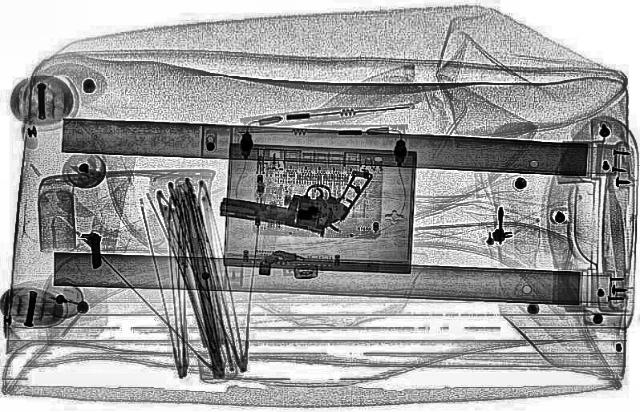Gun: (212, 148, 374, 238)
